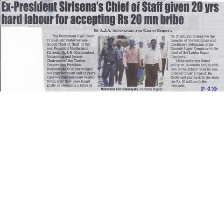news_paper: (0, 0, 223, 92)
